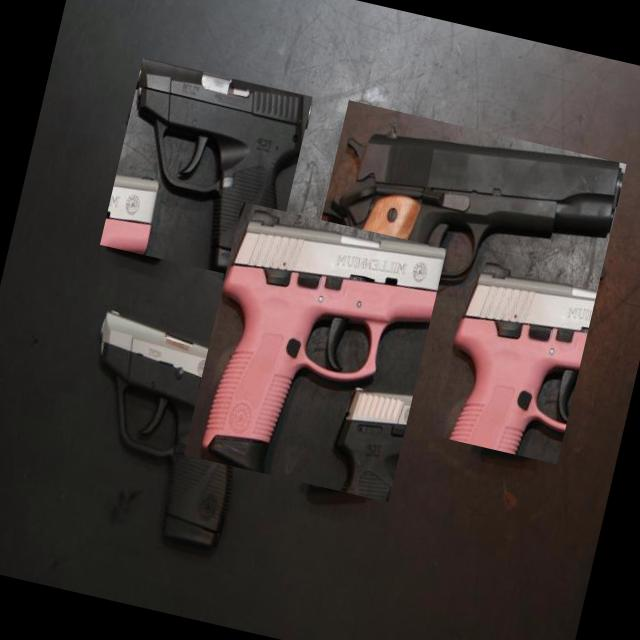Gun: (294, 135, 623, 416), (202, 224, 445, 471), (100, 311, 263, 547), (136, 59, 302, 279)
